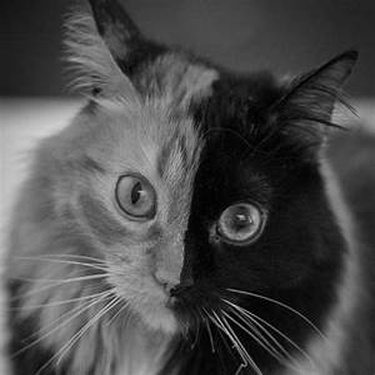cat: (5, 1, 360, 369)
